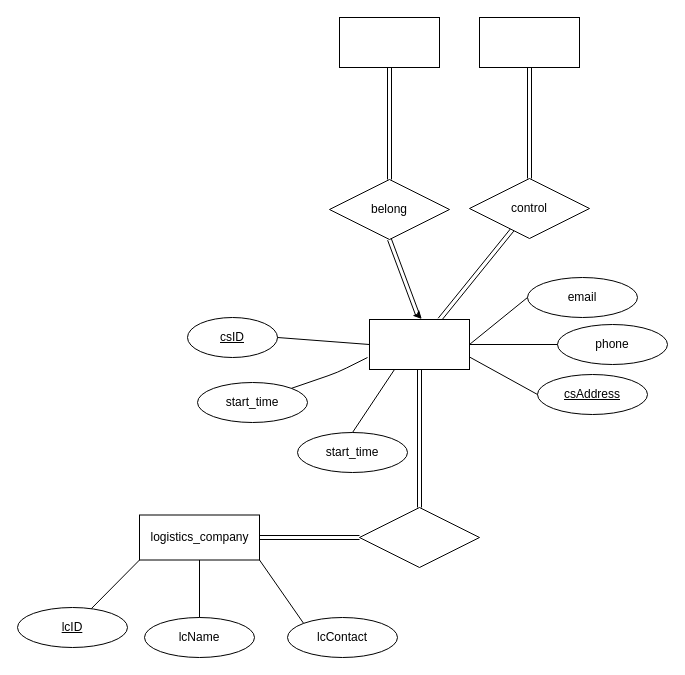
The diagram is 685 pixels wide and 675 high, and some of its shapes have lost their labels. The box of each missing label's shape, as (x1, y1, x2, y2) in pixels:
admin: (478, 16, 580, 68)
cadmin: (338, 16, 440, 68)
courier_station: (368, 318, 470, 370)
transfer: (358, 506, 480, 568)
